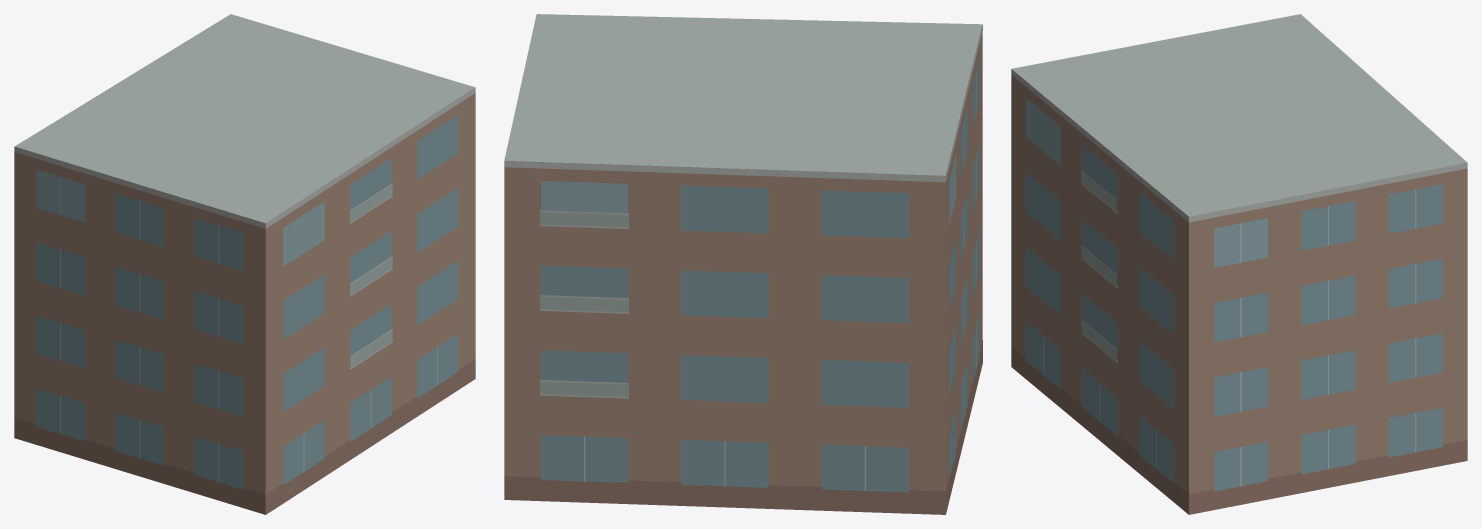
File: survey-upis-32620436.glb
3 renders of one model, left to right at view 1: azimuth 30°, elevation 25°; view 2: azimuth 150°, elevation 25°; view 3: azimuth 270°, elevation 25°, orthographic. The views are drawn at different scales.
Parts seen in each view (by area): view 1: survey-upis-32620436.tmp; view 2: survey-upis-32620436.tmp; view 3: survey-upis-32620436.tmp.
Boxes of the visible parts, <box> form: survey-upis-32620436.tmp: <box>14,14,475,514</box>; survey-upis-32620436.tmp: <box>504,14,982,514</box>; survey-upis-32620436.tmp: <box>1011,14,1467,514</box>.
Bounding box in the file's own units: 18.69 × 12.8 × 17.77.
